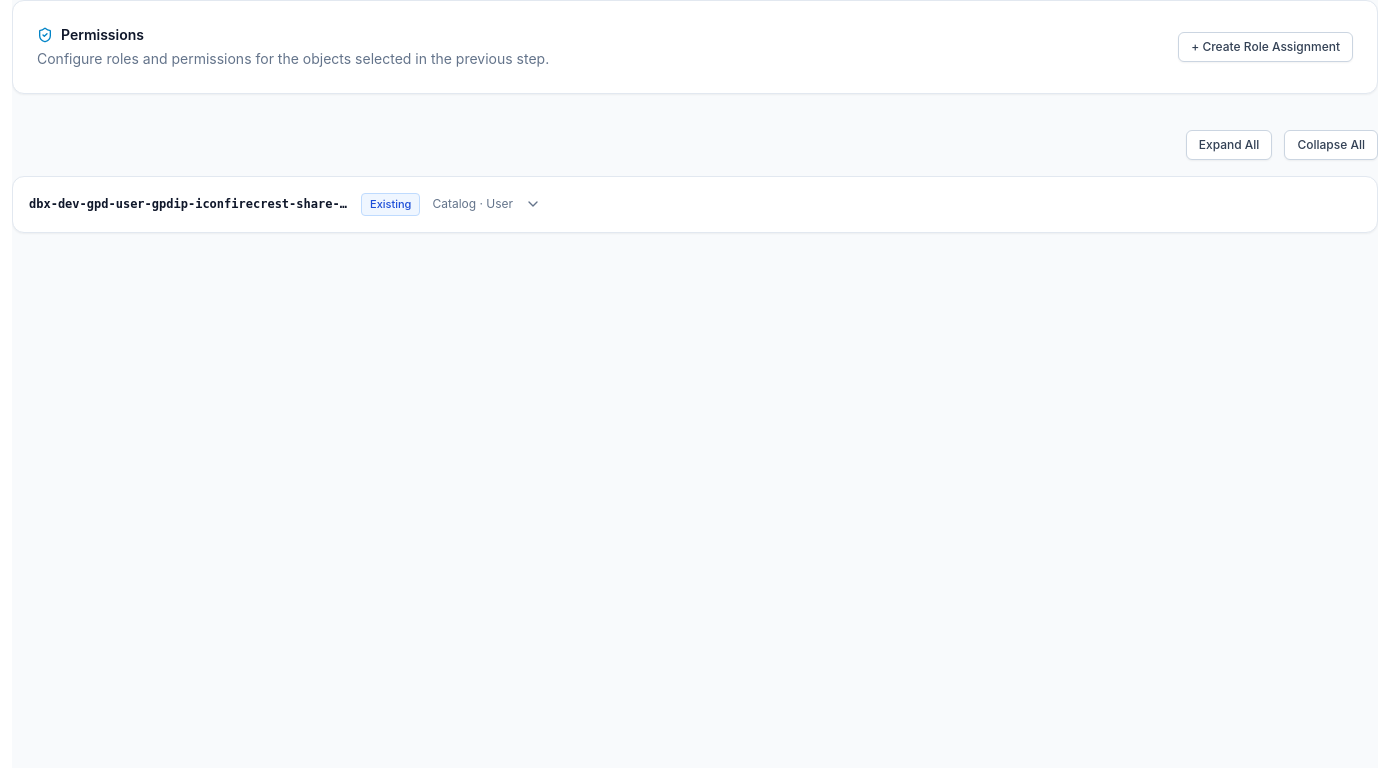
Scenario: role assignment cards › validates a read-only long existing name and permits removing its final grant
Click the button with aria-label "Role assignment: dbx-dev-gpd-user-gpdip-iconfirecrest-share-": (199, 204) [13,177,1377,232]
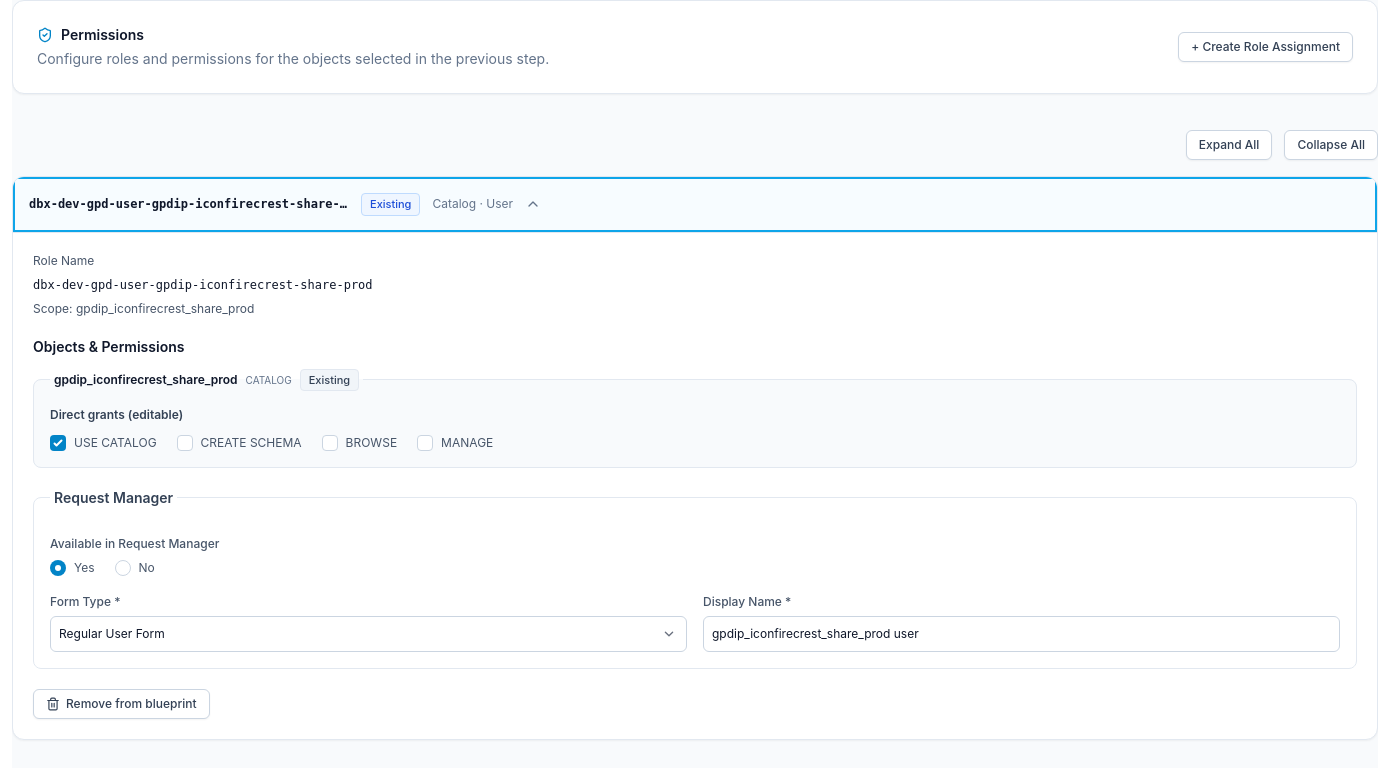
Click the checkbox named "gpdip_iconfirecrest_share_prod: USE CATALOG": (58, 442) [50,434,66,450]
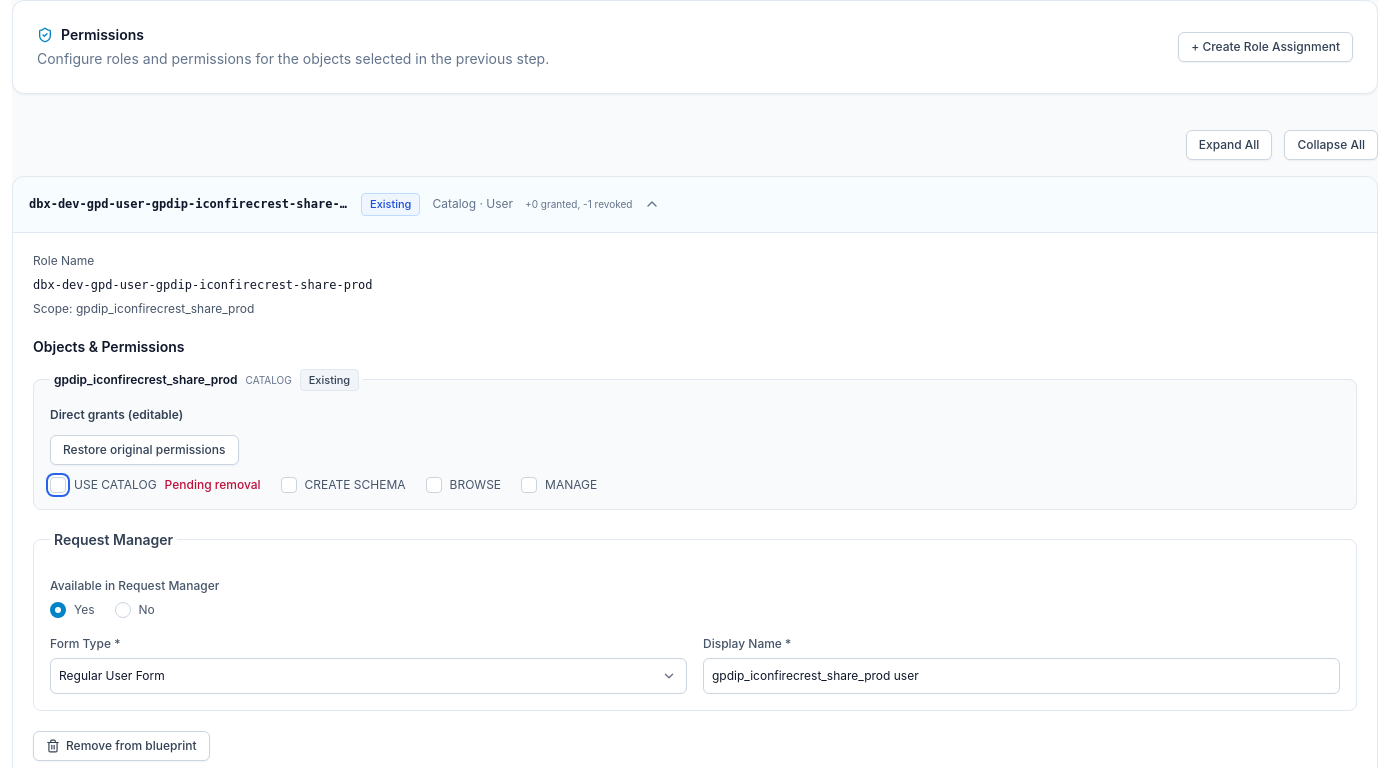
Check: the text "+0 granted, -1 revoked" is shown, box [525,197,632,212]
